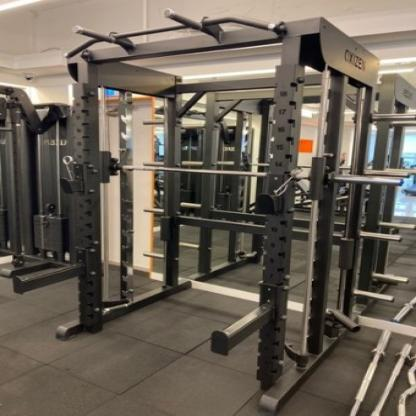smith machine: (56, 9, 364, 412)
